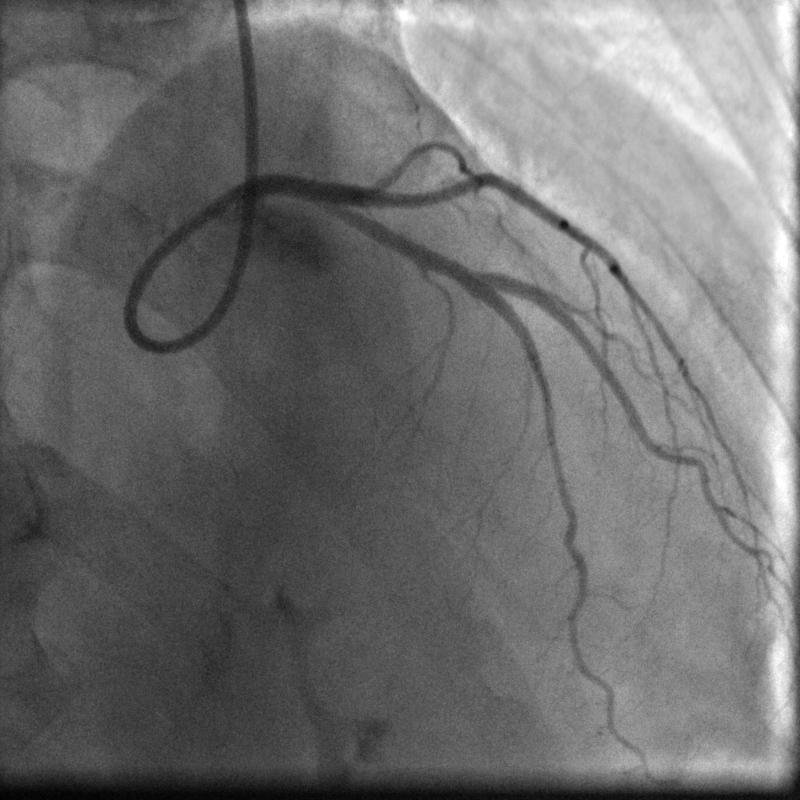Stenosis: (453, 259, 479, 292)
